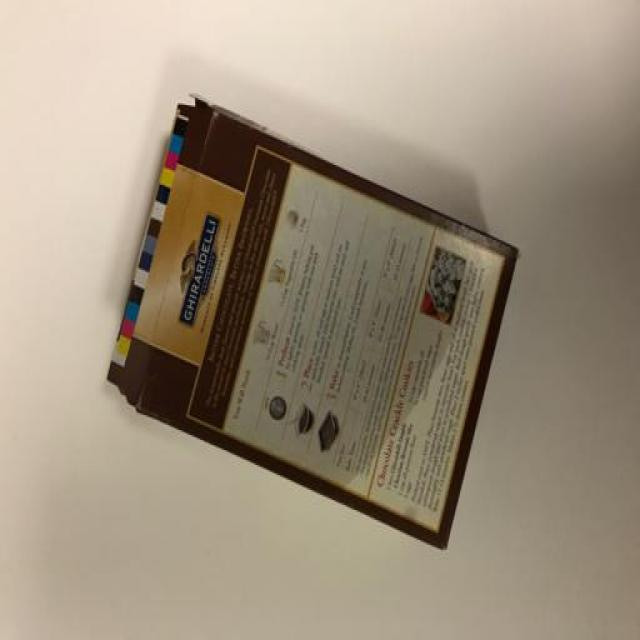paper: (106, 77, 544, 563)
